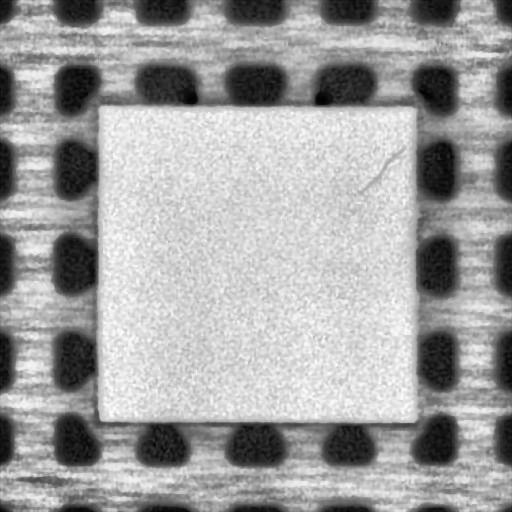DIE_CRACK: (358, 143, 408, 191)
